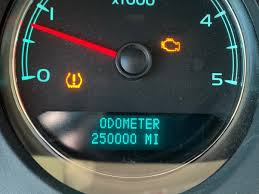Digital_Meter: (88, 113, 167, 148)
